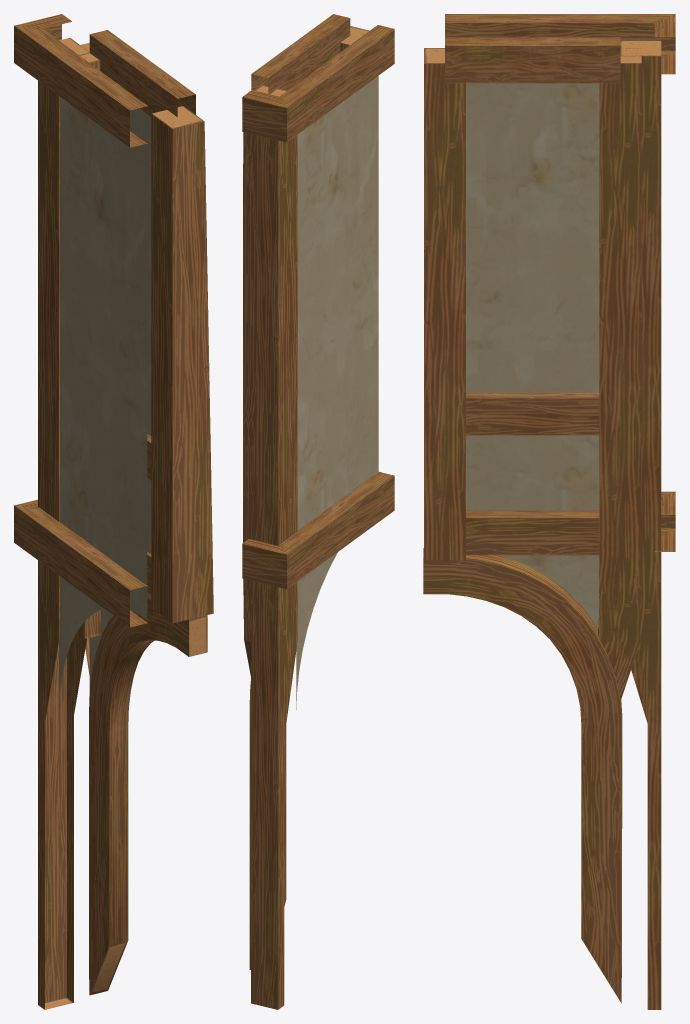
Rendered from Overhang_Side_Plaster_Short_R.gltf.
3 views of the same model, side by side, from view 1: azimuth 30°, elevation 25°; view 2: azimuth 150°, elevation 25°; view 3: azimuth 270°, elevation 25° (orthographic). The views are drawn at different scales.
Parts seen in each view (by area): view 1: Overhang_Side_Plaster_Short_R; view 2: Overhang_Side_Plaster_Short_R; view 3: Overhang_Side_Plaster_Short_R.
Boxes of the visible parts, bbox=[...] form: Overhang_Side_Plaster_Short_R: bbox=[14, 14, 213, 1009]; Overhang_Side_Plaster_Short_R: bbox=[242, 14, 394, 1009]; Overhang_Side_Plaster_Short_R: bbox=[423, 14, 675, 1009].
Size of the model in its own units: 0.4793 by 6.12 by 1.44.
Materials: 2 (2 with a texture image).
